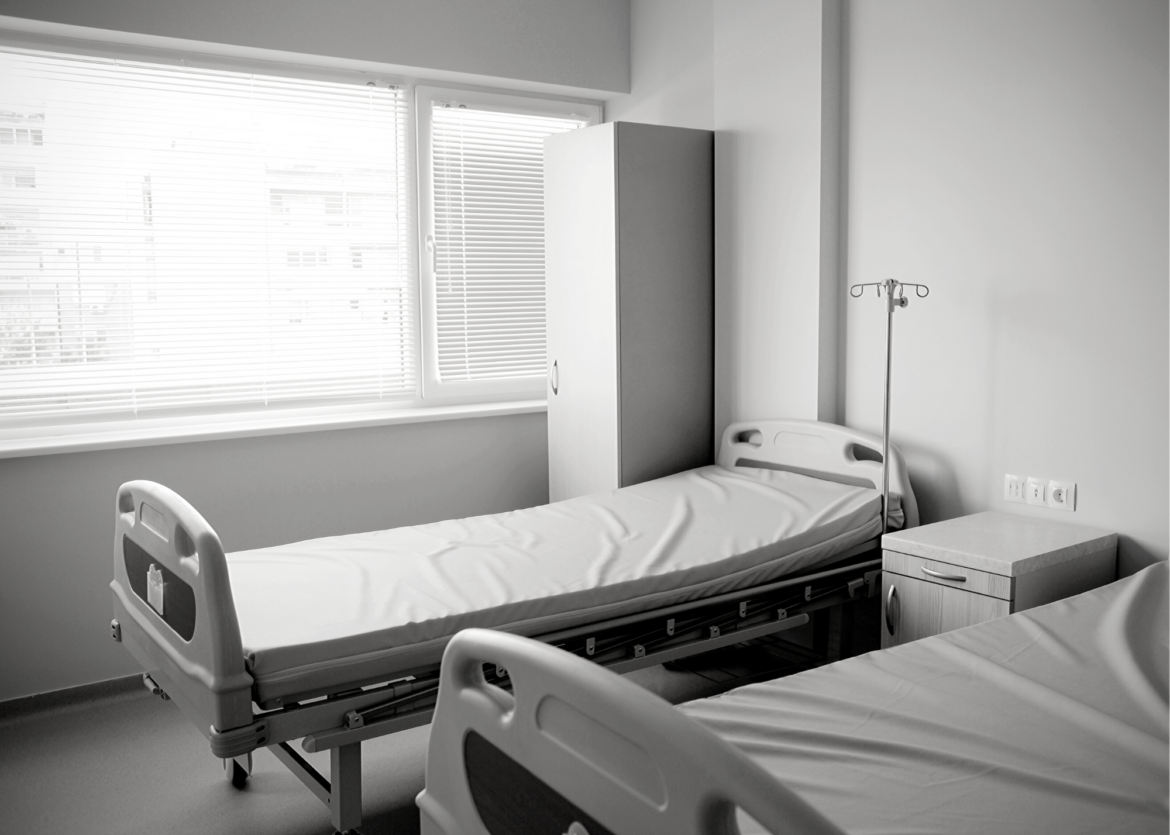trolley_bed: (102, 417, 919, 829), (405, 557, 1168, 834)
